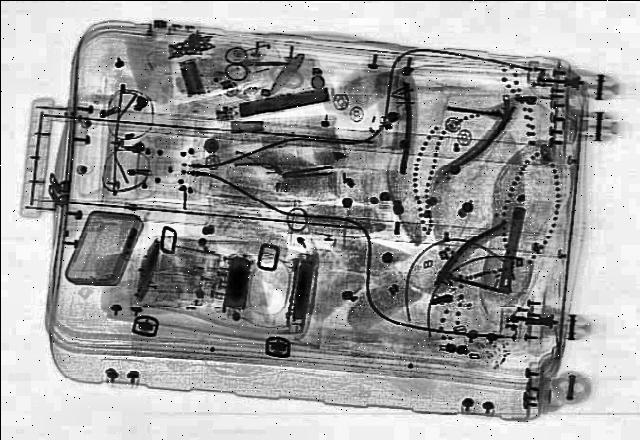Scissors: (222, 46, 288, 82)
